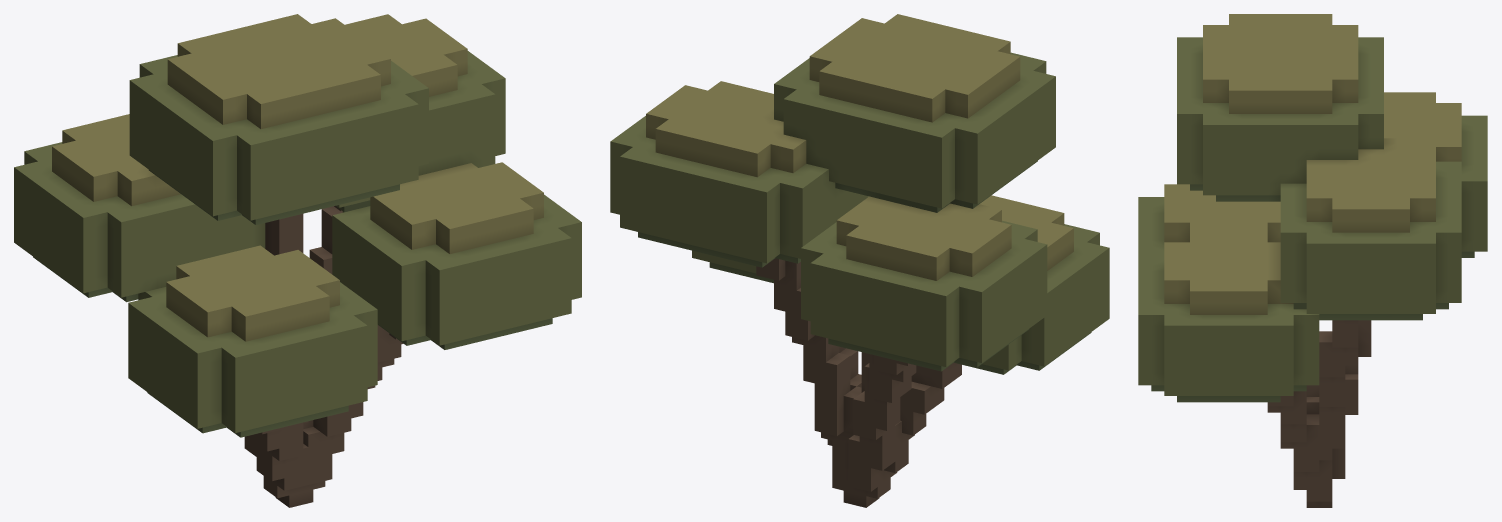
File: elderberry_autumn_picked.glb
3 views of the same model, side by side, from view 1: azimuth 30°, elevation 25°; view 2: azimuth 150°, elevation 25°; view 3: azimuth 270°, elevation 25° (orthographic). The views are drawn at different scales.
Visible parts, largest first — view 1: VoxelVisual; view 2: VoxelVisual; view 3: VoxelVisual.
Part boxes in pixels (box(x1,y1,x2,y2)): VoxelVisual: box(14, 14, 581, 507); VoxelVisual: box(610, 14, 1109, 507); VoxelVisual: box(1138, 14, 1487, 507).
Size of what is drawn, in the model's own units: 2.12 by 2.31 by 1.69.
